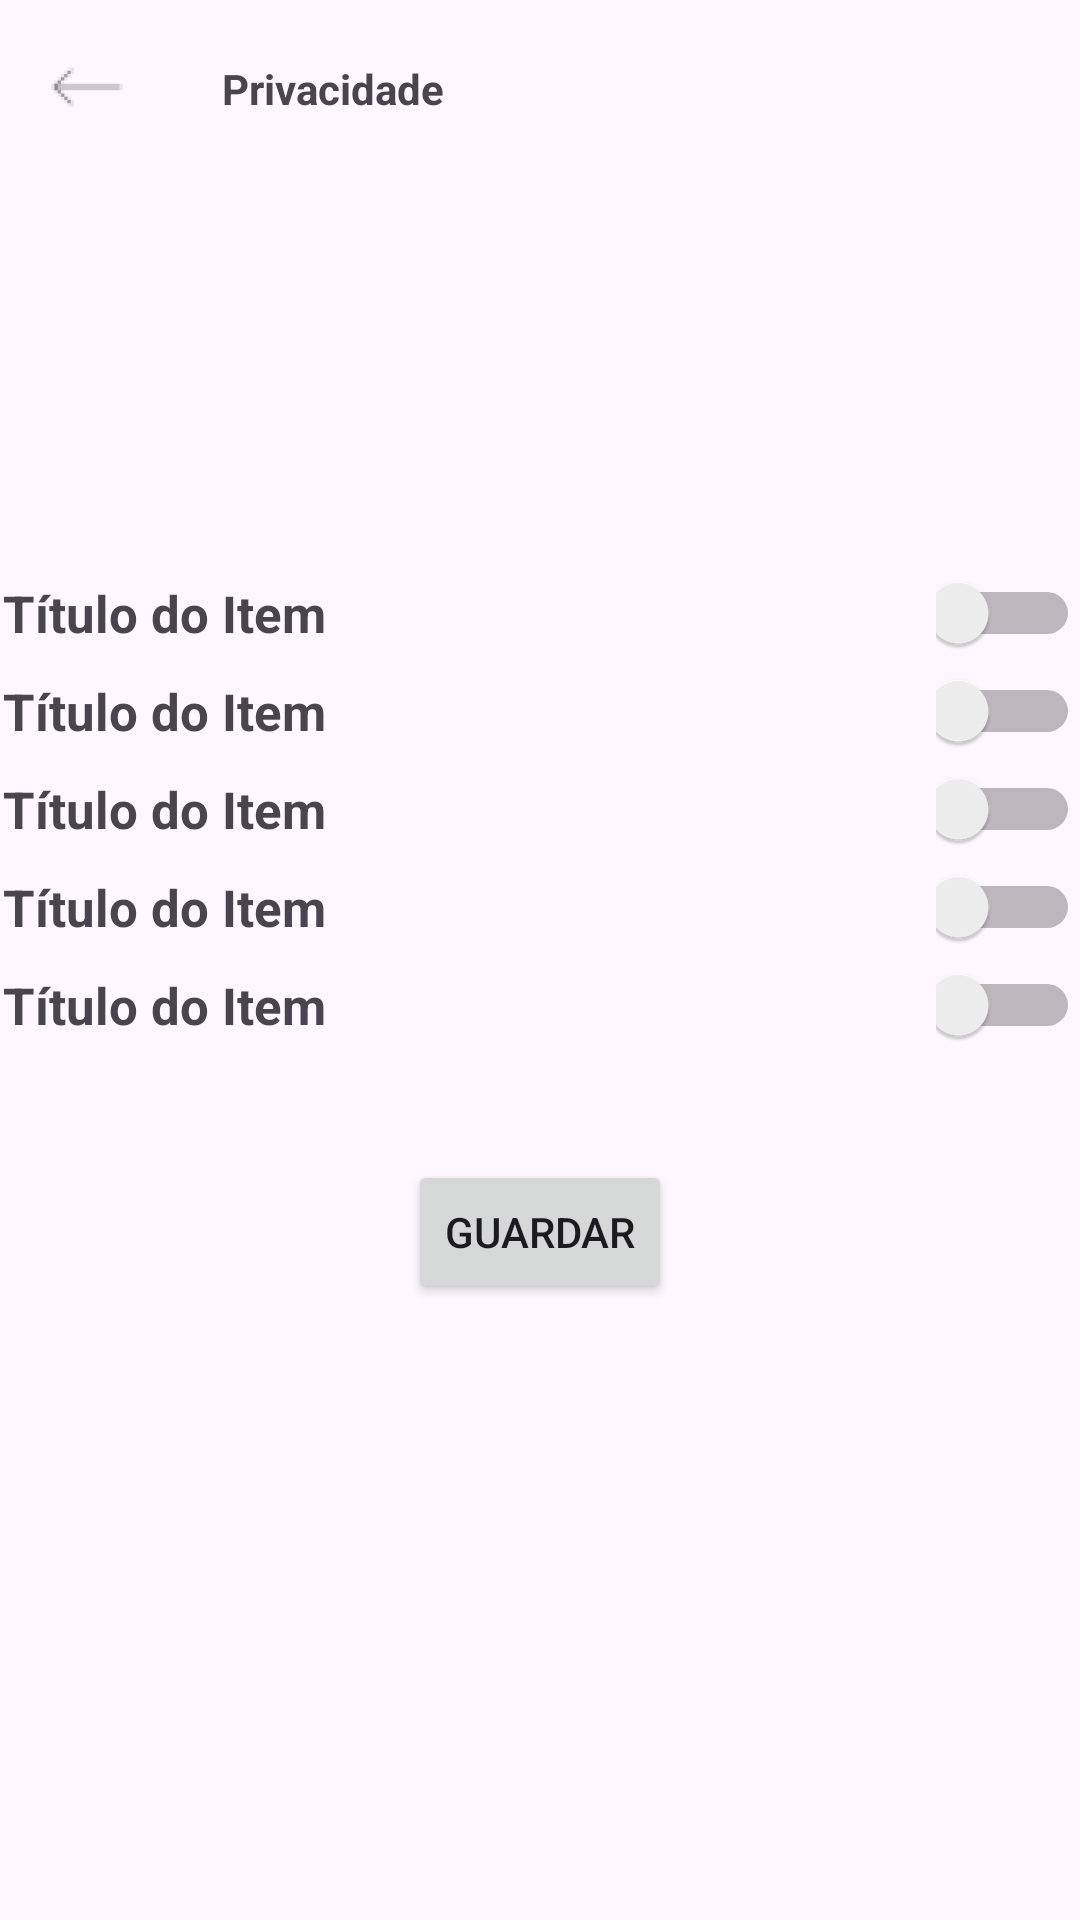

Icon click points for this 1080px×1920px phone screenshot, format (x=x, y=y):
voltar: (x=87, y=87)
